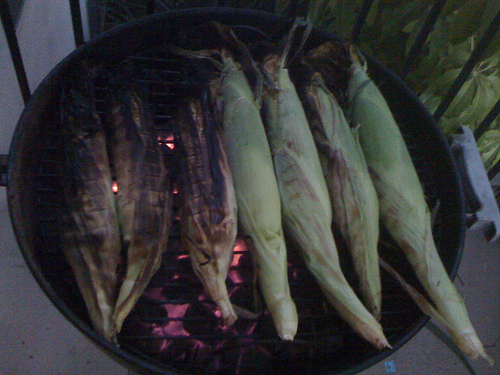corn: (341, 40, 494, 374), (219, 43, 300, 342), (108, 81, 174, 329)
